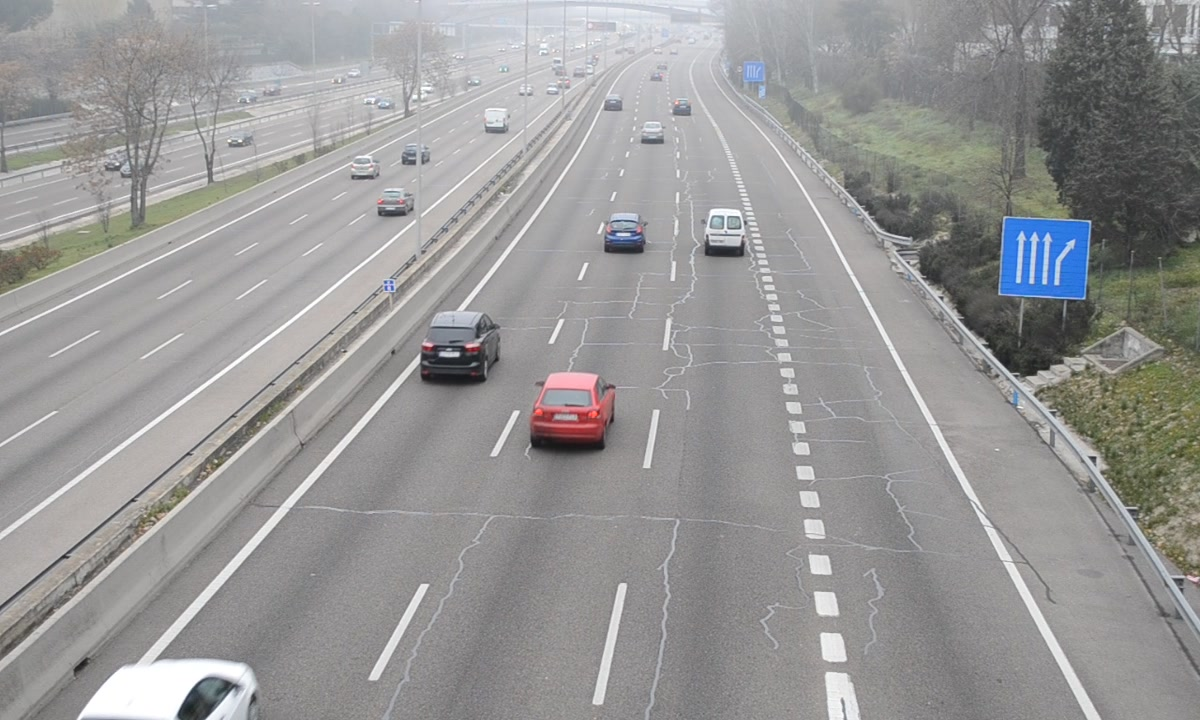car: (532, 374, 611, 449), (423, 312, 497, 379), (604, 213, 645, 252), (638, 120, 665, 145)
van: (706, 209, 746, 255)
